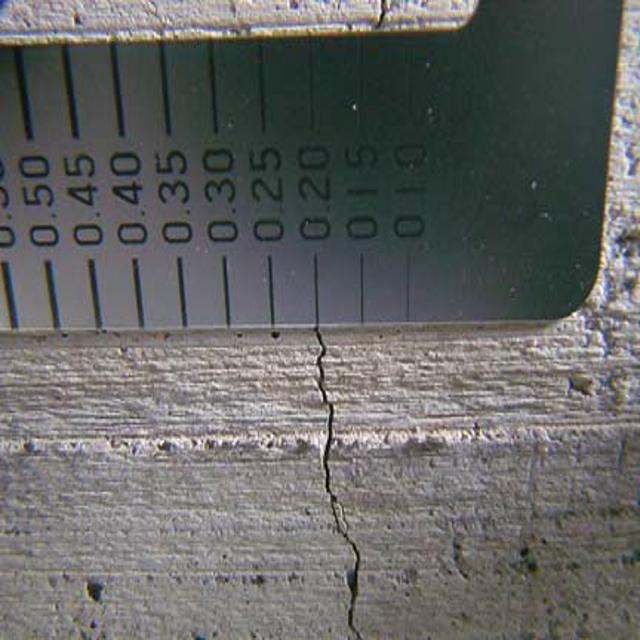crack: (305, 328, 381, 640)
